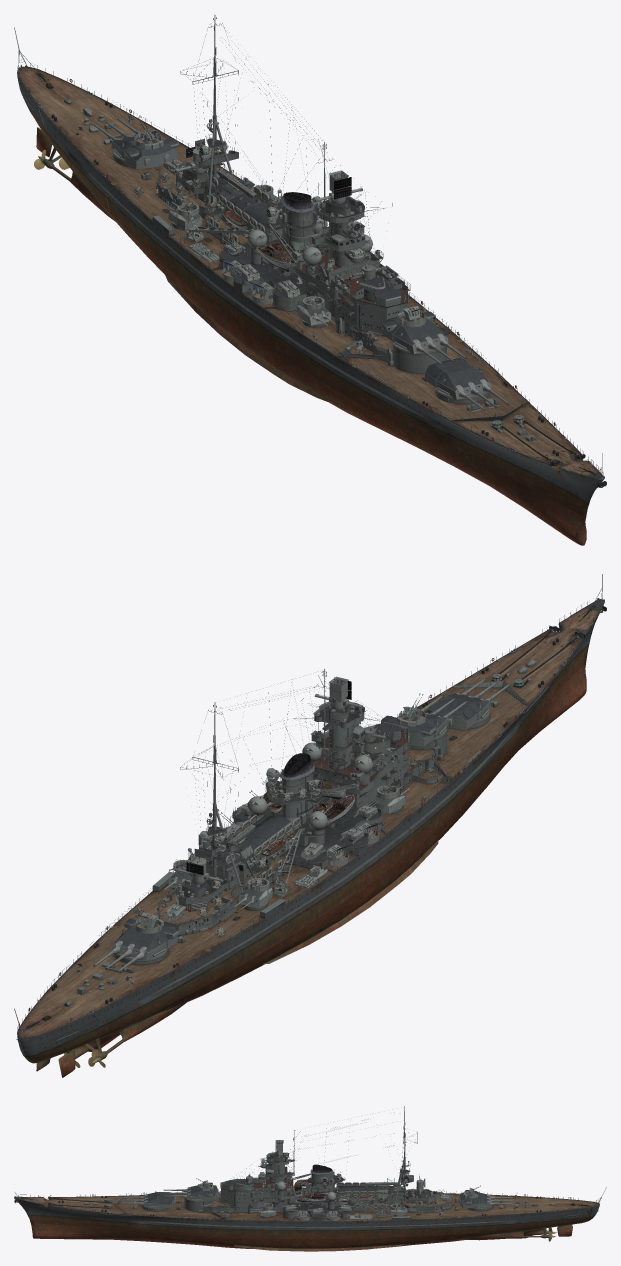
The model's file is the_third_reich_navy_large_cruiser_frithjof-maximum-compressed.glb.
The picture shows the model from 3 angles, top to bottom: view 1: azimuth 30°, elevation 25°; view 2: azimuth 150°, elevation 25°; view 3: azimuth 270°, elevation 25°; orthographic projection. The views are drawn at different scales.
Visible parts, largest first — view 1: HP_Bow_A88683FE_99FD_4D3E_B41E_4E71EEF2792B_0, HP_MidFront_B7560353_AE13_4545_91C4_847DE2F15883_0, HP_MidBack_E64B45AC_CD0B_4925_996D_D92A5D94383B_0, HP_Stern_AB71C7A4_1745_479C_8E36_3F09378E1429_0, HP_MidFront_506380CD_8972_400A_A44E_753657D8A26B_0, HP_MidBack_28C3D9D6_8210_4836_A3A5_800E3838A855_0, HP_GGM_1_2F566CF8_EDAC_40A3_96DB_D823BC83CDF3_0, HP_GGM_2_DCC32A4B_634E_439F_A781_AA8F1C878A6E_0, HP_GGM_3_DCC32A4B_634E_439F_A781_AA8F1C878A6E_0, HP_MidBack_B197ADFF_A524_4871_B490_71D3589A6FD9_0, HP_MidFront_E3FFA612_8793_4EEA_8911_4A5E3E205375_0; view 2: HP_MidBack_E64B45AC_CD0B_4925_996D_D92A5D94383B_0, HP_Stern_AB71C7A4_1745_479C_8E36_3F09378E1429_0, HP_Bow_A88683FE_99FD_4D3E_B41E_4E71EEF2792B_0, HP_MidFront_B7560353_AE13_4545_91C4_847DE2F15883_0, HP_MidBack_28C3D9D6_8210_4836_A3A5_800E3838A855_0, HP_MidFront_506380CD_8972_400A_A44E_753657D8A26B_0, HP_GGM_3_DCC32A4B_634E_439F_A781_AA8F1C878A6E_0, HP_GGM_1_2F566CF8_EDAC_40A3_96DB_D823BC83CDF3_0, HP_MidBack_B197ADFF_A524_4871_B490_71D3589A6FD9_0, HP_GGM_2_DCC32A4B_634E_439F_A781_AA8F1C878A6E_0, HP_MidFront_E3FFA612_8793_4EEA_8911_4A5E3E205375_0; view 3: HP_Bow_A88683FE_99FD_4D3E_B41E_4E71EEF2792B_0, HP_MidBack_E64B45AC_CD0B_4925_996D_D92A5D94383B_0, HP_MidFront_B7560353_AE13_4545_91C4_847DE2F15883_0, HP_Stern_AB71C7A4_1745_479C_8E36_3F09378E1429_0, HP_MidBack_28C3D9D6_8210_4836_A3A5_800E3838A855_0, HP_MidFront_506380CD_8972_400A_A44E_753657D8A26B_0, HP_GGM_1_2F566CF8_EDAC_40A3_96DB_D823BC83CDF3_0, HP_GGM_3_DCC32A4B_634E_439F_A781_AA8F1C878A6E_0, HP_GGM_2_DCC32A4B_634E_439F_A781_AA8F1C878A6E_0, HP_MidBack_B197ADFF_A524_4871_B490_71D3589A6FD9_0, HP_MidFront_E3FFA612_8793_4EEA_8911_4A5E3E205375_0, MP_GM955_Primary_Crane_0286466C_42F0_468D_BC40_DFFC4B68D9B7_.
Boxes of the visible parts, bbox=[...] form: HP_Bow_A88683FE_99FD_4D3E_B41E_4E71EEF2792B_0: bbox=[366, 349, 606, 545]; HP_MidFront_B7560353_AE13_4545_91C4_847DE2F15883_0: bbox=[244, 139, 472, 428]; HP_MidBack_E64B45AC_CD0B_4925_996D_D92A5D94383B_0: bbox=[105, 14, 318, 355]; HP_Stern_AB71C7A4_1745_479C_8E36_3F09378E1429_0: bbox=[14, 27, 192, 220]; HP_MidFront_506380CD_8972_400A_A44E_753657D8A26B_0: bbox=[264, 196, 410, 361]; HP_MidBack_28C3D9D6_8210_4836_A3A5_800E3838A855_0: bbox=[141, 115, 319, 293]; HP_GGM_1_2F566CF8_EDAC_40A3_96DB_D823BC83CDF3_0: bbox=[425, 357, 509, 410]; HP_GGM_2_DCC32A4B_634E_439F_A781_AA8F1C878A6E_0: bbox=[382, 316, 466, 365]; HP_GGM_3_DCC32A4B_634E_439F_A781_AA8F1C878A6E_0: bbox=[93, 118, 177, 169]; HP_MidBack_B197ADFF_A524_4871_B490_71D3589A6FD9_0: bbox=[106, 20, 318, 287]; HP_MidFront_E3FFA612_8793_4EEA_8911_4A5E3E205375_0: bbox=[211, 23, 470, 371]; HP_MidBack_E64B45AC_CD0B_4925_996D_D92A5D94383B_0: bbox=[106, 702, 372, 1001]; HP_Stern_AB71C7A4_1745_479C_8E36_3F09378E1429_0: bbox=[14, 932, 202, 1077]; HP_Bow_A88683FE_99FD_4D3E_B41E_4E71EEF2792B_0: bbox=[416, 574, 606, 810]; HP_MidFront_B7560353_AE13_4545_91C4_847DE2F15883_0: bbox=[266, 669, 472, 906]; HP_MidBack_28C3D9D6_8210_4836_A3A5_800E3838A855_0: bbox=[158, 753, 368, 943]; HP_MidFront_506380CD_8972_400A_A44E_753657D8A26B_0: bbox=[266, 701, 435, 831]; HP_GGM_3_DCC32A4B_634E_439F_A781_AA8F1C878A6E_0: bbox=[93, 924, 177, 972]; HP_GGM_1_2F566CF8_EDAC_40A3_96DB_D823BC83CDF3_0: bbox=[425, 678, 509, 729]; HP_MidBack_B197ADFF_A524_4871_B490_71D3589A6FD9_0: bbox=[99, 710, 367, 950]; HP_GGM_2_DCC32A4B_634E_439F_A781_AA8F1C878A6E_0: bbox=[390, 695, 466, 746]; HP_MidFront_E3FFA612_8793_4EEA_8911_4A5E3E205375_0: bbox=[199, 671, 472, 846]; HP_Bow_A88683FE_99FD_4D3E_B41E_4E71EEF2792B_0: bbox=[14, 1192, 197, 1244]; HP_MidBack_E64B45AC_CD0B_4925_996D_D92A5D94383B_0: bbox=[292, 1106, 465, 1251]; HP_MidFront_B7560353_AE13_4545_91C4_847DE2F15883_0: bbox=[184, 1130, 310, 1251]; HP_Stern_AB71C7A4_1745_479C_8E36_3F09378E1429_0: bbox=[464, 1187, 606, 1240]; HP_MidBack_28C3D9D6_8210_4836_A3A5_800E3838A855_0: bbox=[290, 1158, 457, 1221]; HP_MidFront_506380CD_8972_400A_A44E_753657D8A26B_0: bbox=[203, 1152, 309, 1219]; HP_GGM_1_2F566CF8_EDAC_40A3_96DB_D823BC83CDF3_0: bbox=[120, 1191, 175, 1208]; HP_GGM_3_DCC32A4B_634E_439F_A781_AA8F1C878A6E_0: bbox=[459, 1191, 514, 1209]; HP_GGM_2_DCC32A4B_634E_439F_A781_AA8F1C878A6E_0: bbox=[163, 1184, 218, 1201]; HP_MidBack_B197ADFF_A524_4871_B490_71D3589A6FD9_0: bbox=[310, 1122, 461, 1221]; HP_MidFront_E3FFA612_8793_4EEA_8911_4A5E3E205375_0: bbox=[198, 1127, 393, 1221]; MP_GM955_Primary_Crane_0286466C_42F0_468D_BC40_DFFC4B68D9B7_: bbox=[336, 1196, 385, 1217].
Bounding box in the file's own units: 0.0207 × 0.0389 × 0.1588.
Materials: 70 (67 with a texture image).
